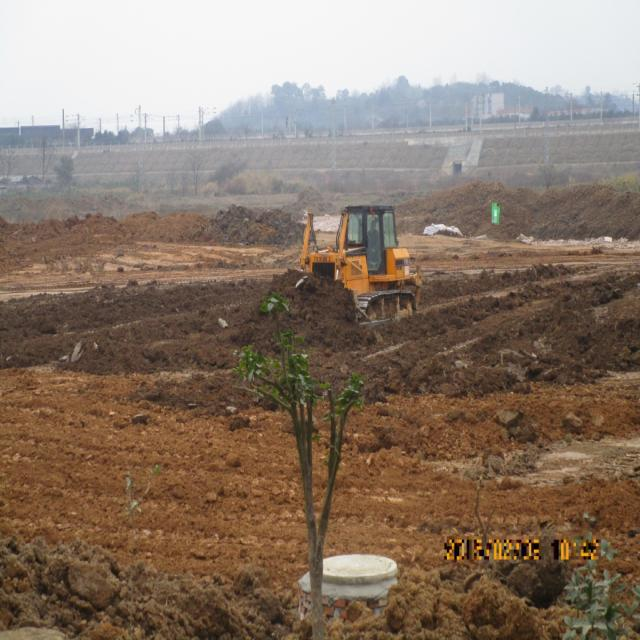machinery: (300, 205, 422, 328)
